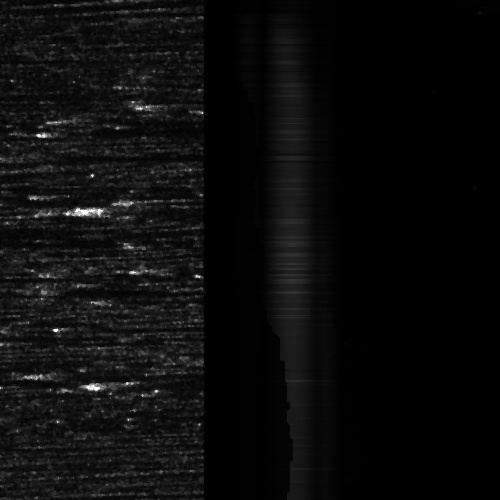shadow: (0, 89, 138, 98), (0, 97, 57, 106), (0, 12, 44, 19)
